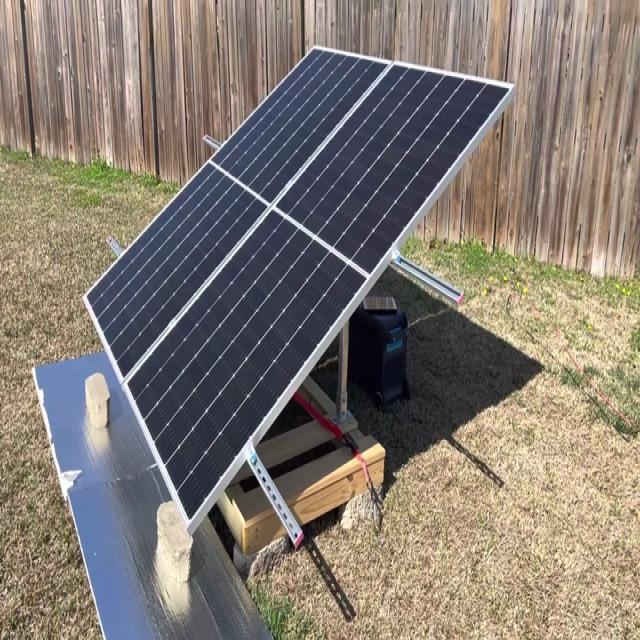Normal Solar Panel: (82, 47, 515, 524)
